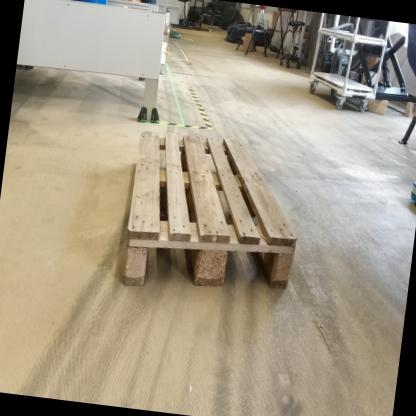BoxFace: (115, 125, 299, 291)
